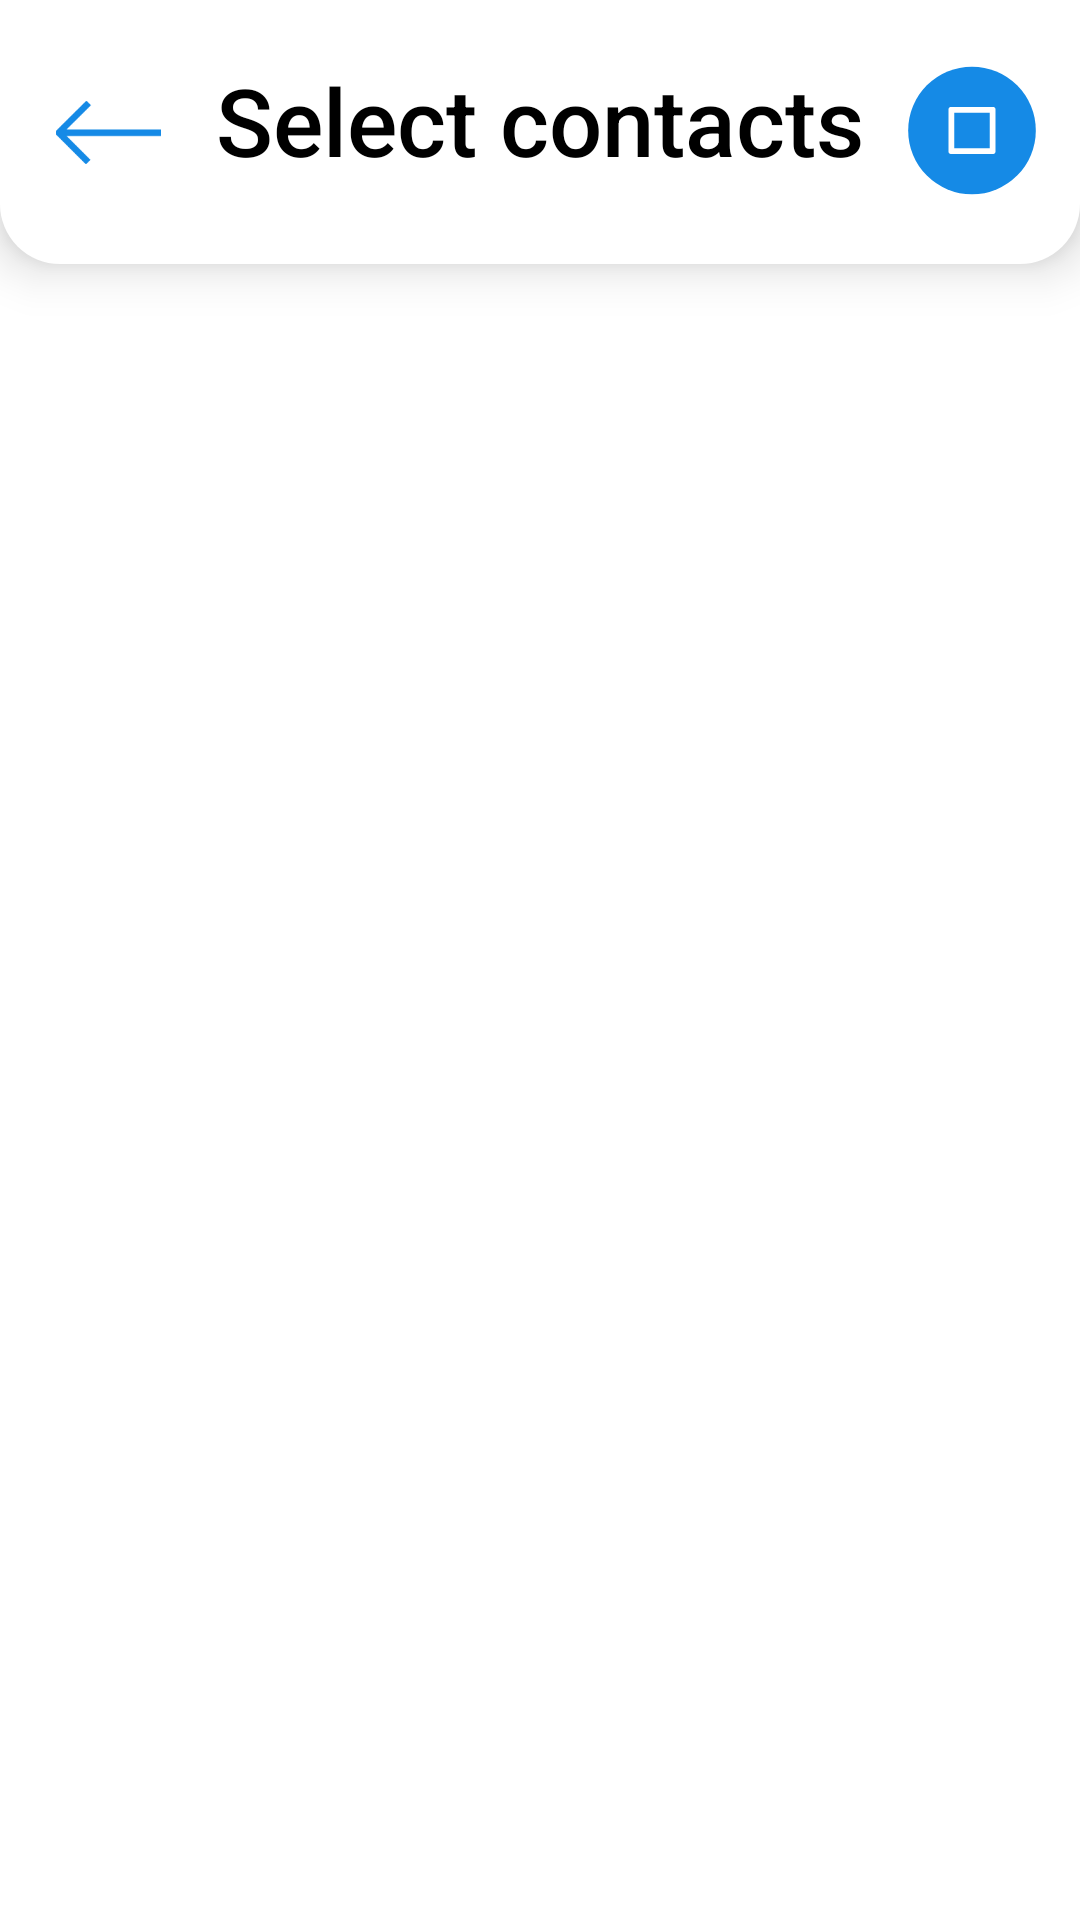

Screen size 1080w x 1920h. Icon name, then its box in pixels as {"left": x1, "top": y1, "right": x2, "bottom": y2}:
select all: {"left": 908, "top": 66, "right": 1036, "bottom": 195}
